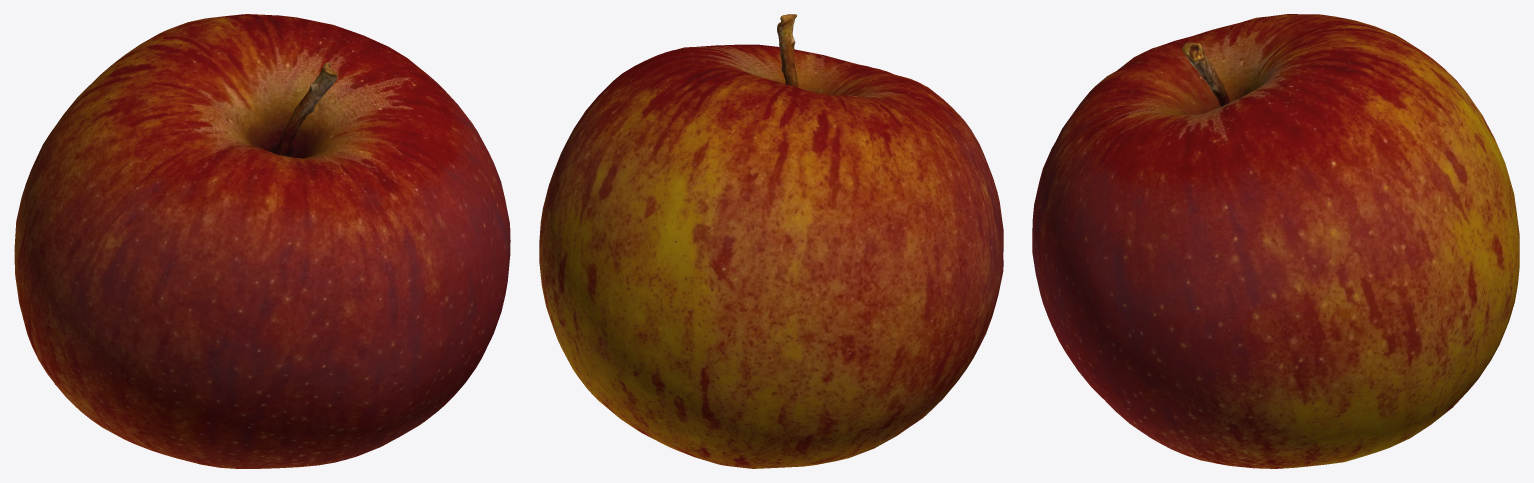
3 renders of one model, left to right at view 1: azimuth 30°, elevation 25°; view 2: azimuth 150°, elevation 25°; view 3: azimuth 270°, elevation 25°, orthographic. The views are drawn at different scales.
Visible parts, largest first — view 1: food_apple_01; view 2: food_apple_01; view 3: food_apple_01.
Boxes of the visible parts, x1=… form: food_apple_01: x1=14, y1=14, x2=510, y2=468; food_apple_01: x1=539, y1=14, x2=1003, y2=468; food_apple_01: x1=1032, y1=14, x2=1519, y2=468.
Bounding box in the file's own units: 0.0976 × 0.0854 × 0.0959.
1 material, 1 textured.
